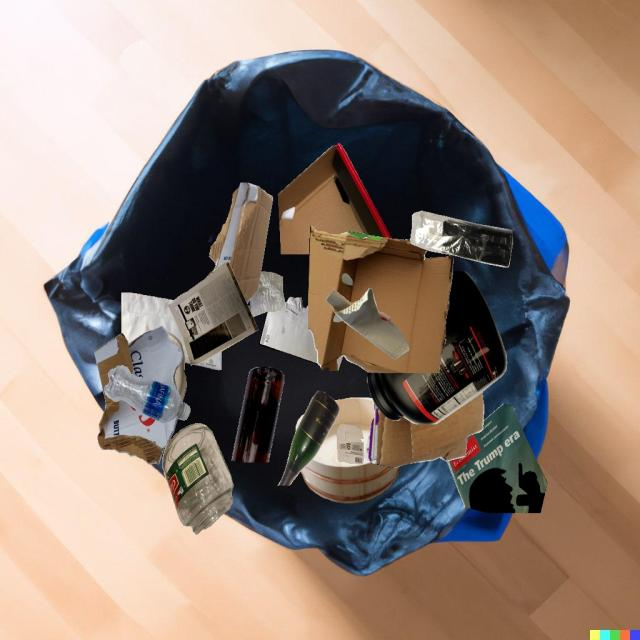cardboard: (308, 226, 453, 373), (278, 143, 392, 254), (94, 326, 182, 464), (363, 392, 484, 468), (209, 182, 273, 304), (325, 288, 410, 359)
combustible waste: (301, 398, 400, 504)
glass: (163, 423, 234, 535), (278, 391, 339, 486), (232, 367, 284, 462)
paper: (447, 404, 547, 513), (168, 262, 258, 365), (121, 293, 190, 364), (259, 297, 317, 355), (167, 332, 187, 402), (336, 424, 364, 464)
plastic: (367, 271, 507, 424), (410, 211, 513, 267), (104, 365, 190, 423), (247, 271, 285, 317)
